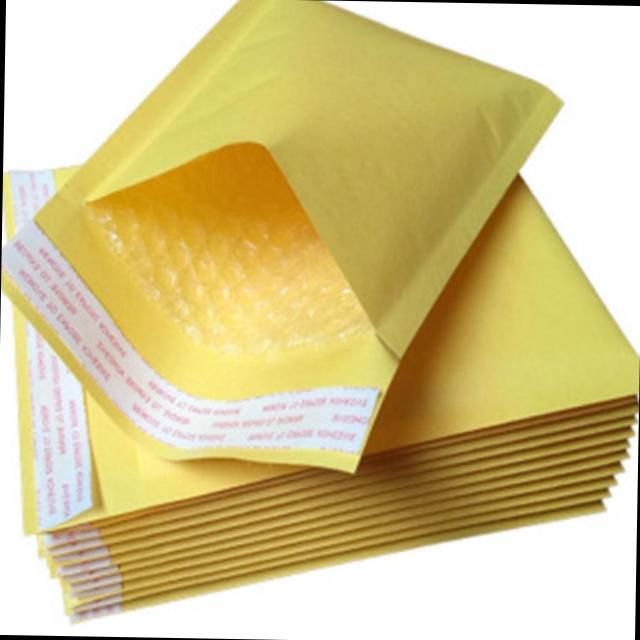mailer: (1, 0, 561, 469), (364, 178, 639, 456)
